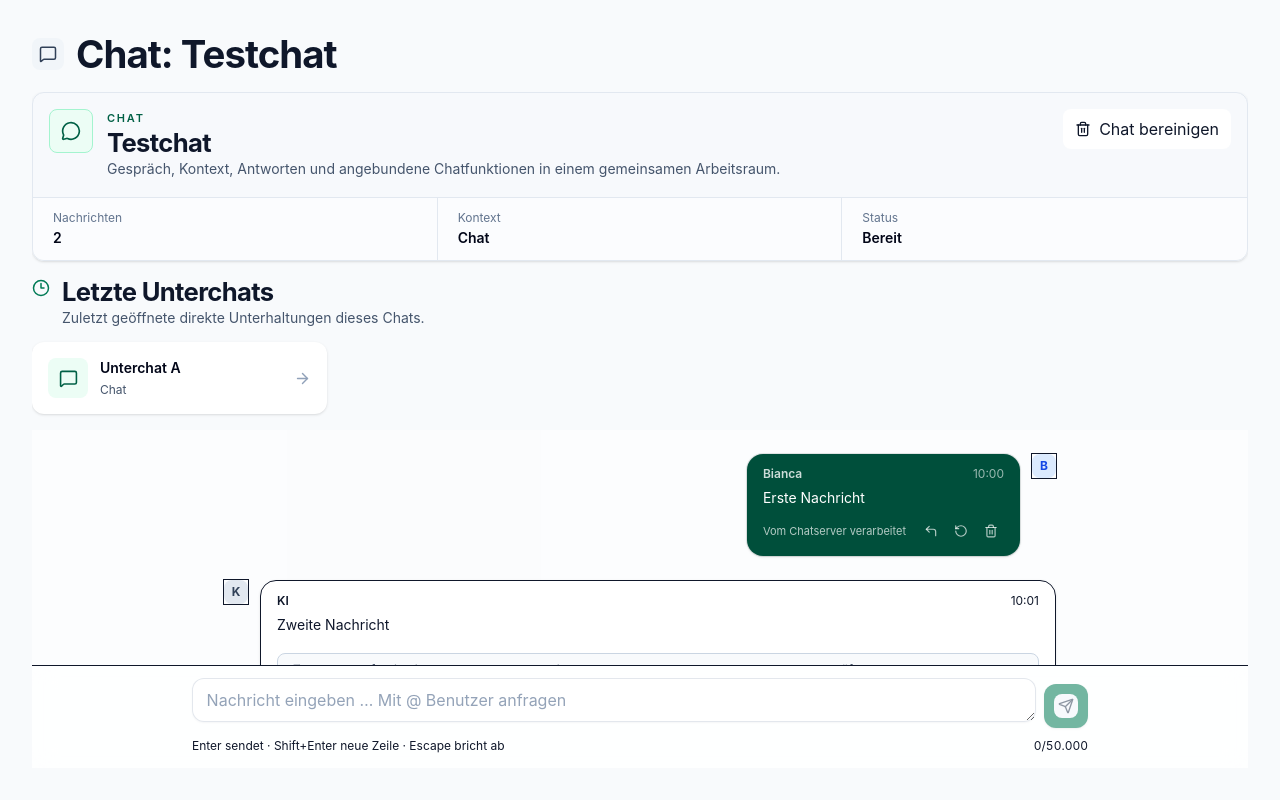
it: GenericChatView history mutations › truncates later messages and resumes after the selected point
The width and height of the screenshot is (1280, 800).
Check: the text "Zweite Nachricht" is shown, box [277, 616, 390, 633]
Click the button named "Chat ab dieser Nachricht fortsetzen". click: (961, 531)
box: [948, 518, 974, 544]
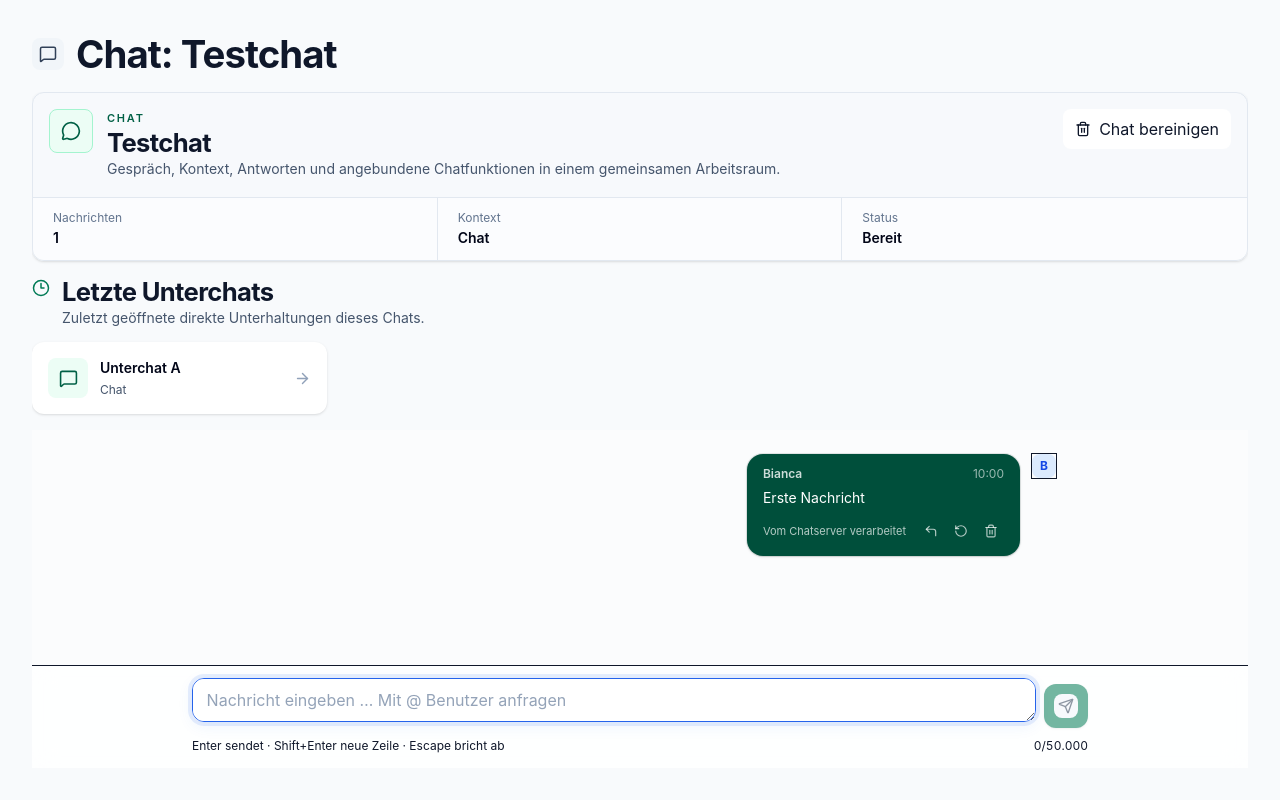
Check: the text "Erste Nachricht" is shown, box [763, 489, 865, 506]
Check: the text "Zweite Nachricht" is gone
